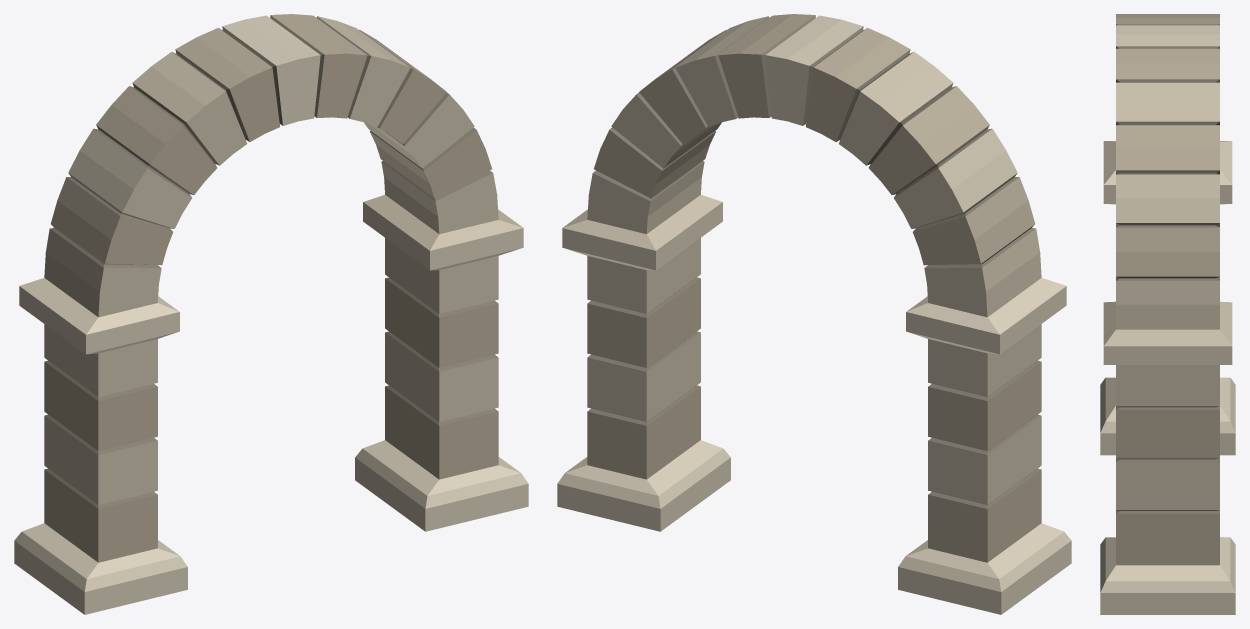
3 views of the same model, side by side, from view 1: azimuth 30°, elevation 25°; view 2: azimuth 150°, elevation 25°; view 3: azimuth 270°, elevation 25° (orthographic). The views are drawn at different scales.
Visible parts, largest first — view 1: ContinuousThirteenVoussoirArch; view 2: ContinuousThirteenVoussoirArch; view 3: ContinuousThirteenVoussoirArch.
Boxes of the visible parts, x1,y1,x2,y2 form: ContinuousThirteenVoussoirArch: (14, 14, 528, 614); ContinuousThirteenVoussoirArch: (557, 14, 1071, 614); ContinuousThirteenVoussoirArch: (1100, 14, 1235, 614).
Bounding box in the file's own units: 2.84 × 3.03 × 0.78.
